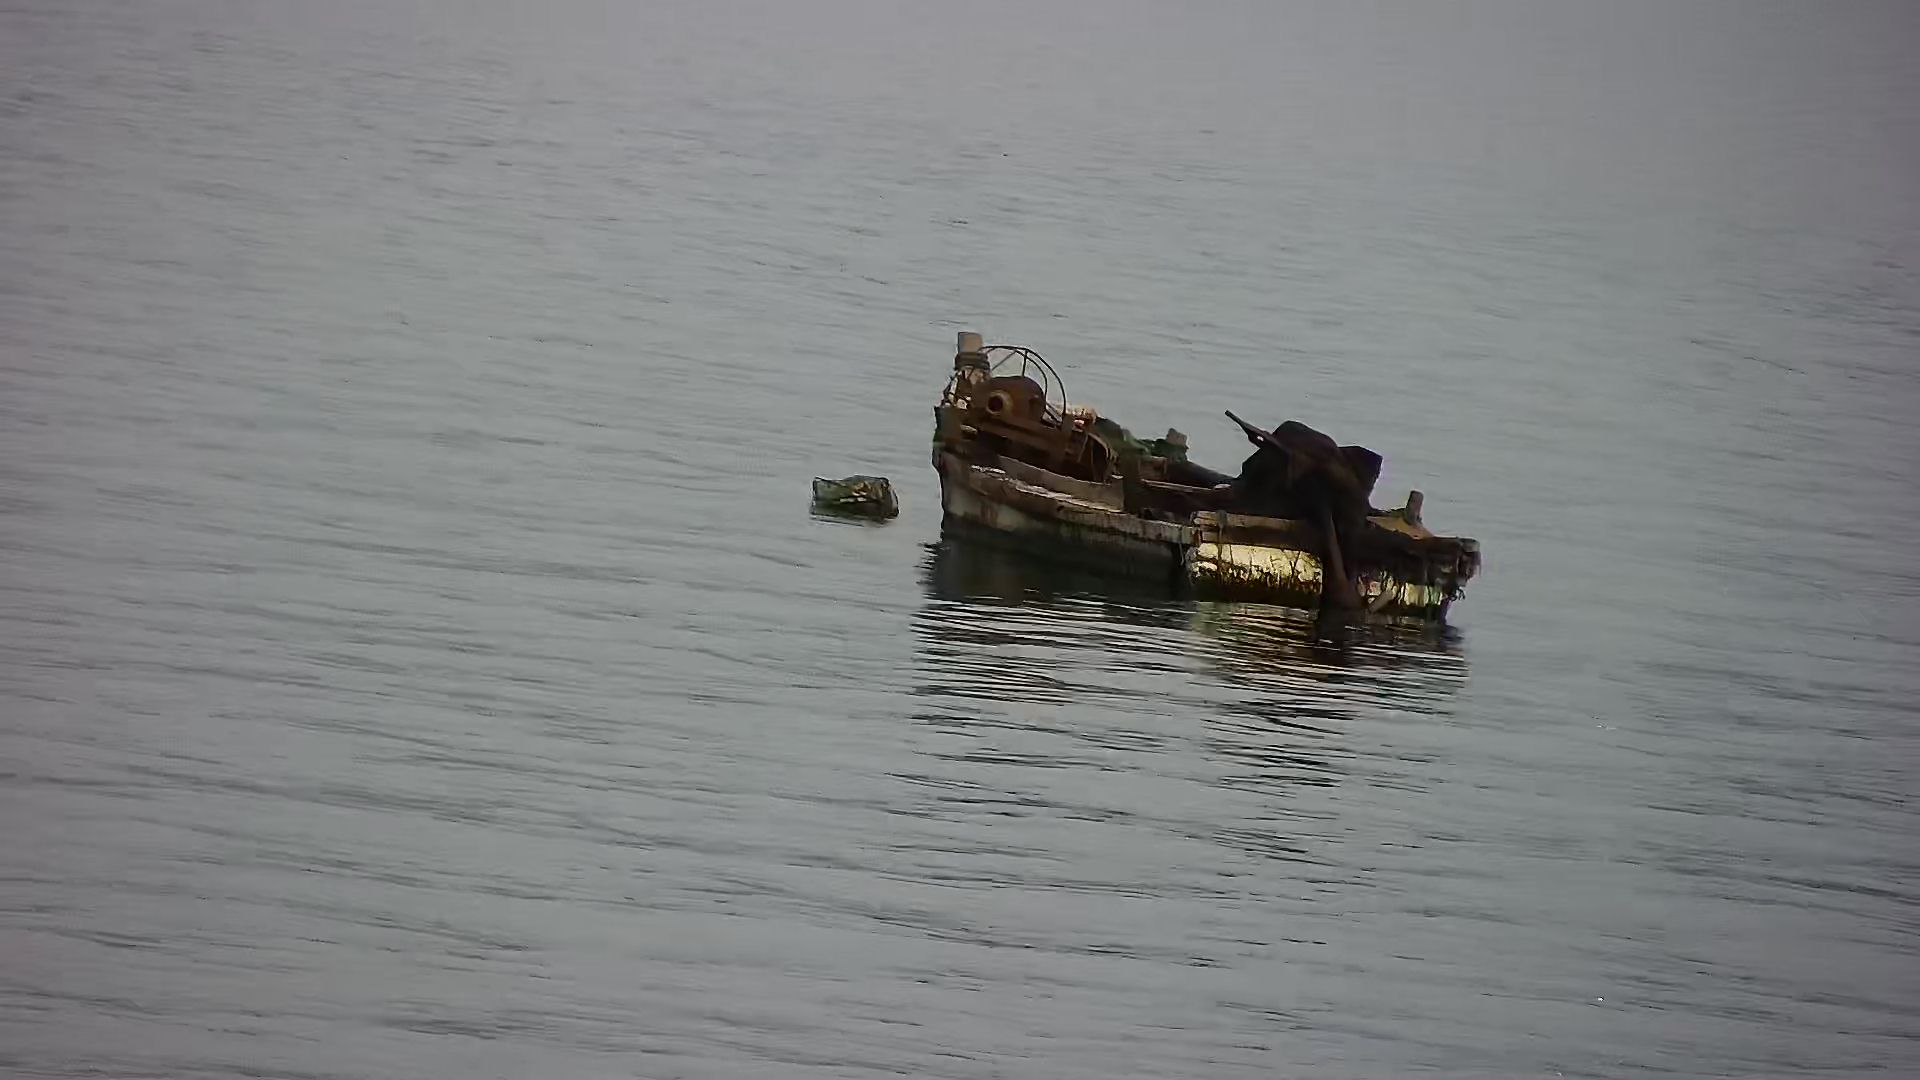boat: (935, 336, 1505, 665)
rock: (796, 456, 907, 545)
